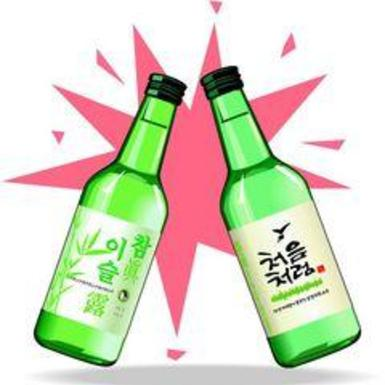soju: (193, 64, 366, 371), (33, 60, 189, 368)
